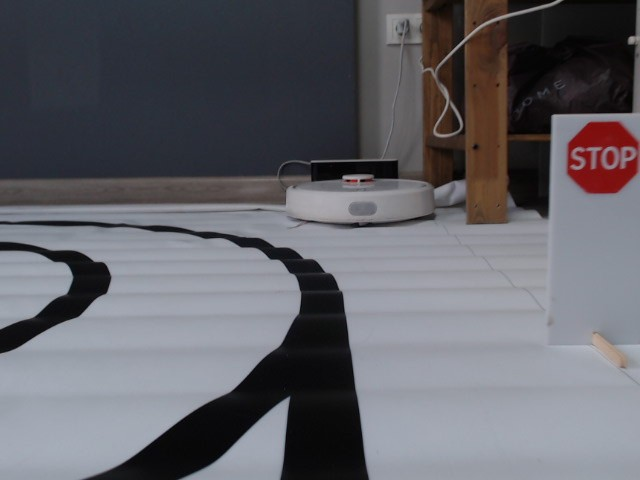Stop: (565, 118, 640, 196)
